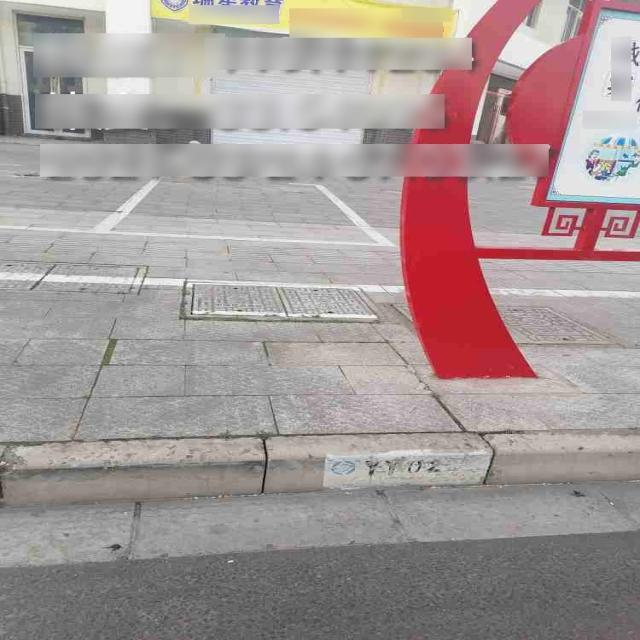Good: (378, 292, 622, 350), (169, 279, 389, 332), (0, 250, 156, 304)
